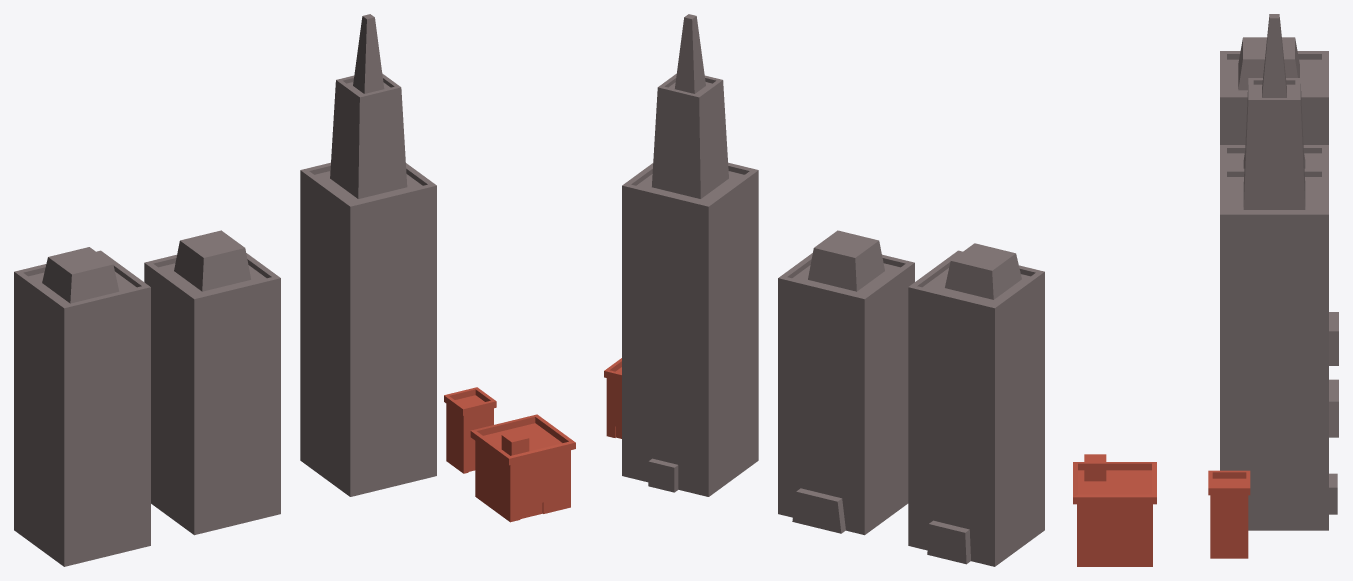
Rendered from BuildingPack001.fbx.
3 views of the same model, side by side, from view 1: azimuth 30°, elevation 25°; view 2: azimuth 150°, elevation 25°; view 3: azimuth 270°, elevation 25° (orthographic). The views are drawn at different scales.
Parts seen in each view (by area): view 1: SkyScraperTall, Skyscraper002, Skyscraper, TallBuildingWide, TallBuilding; view 2: SkyScraperTall, Skyscraper002, Skyscraper, TallBuilding; view 3: SkyScraperTall, TallBuildingWide, Skyscraper002, TallBuilding, Skyscraper.
Boxes of the visible parts, x1,y1,x2,y2 form: SkyScraperTall: (300, 14, 436, 496); Skyscraper002: (14, 247, 150, 566); Skyscraper: (144, 230, 280, 535); TallBuildingWide: (470, 414, 575, 522); TallBuilding: (444, 387, 496, 473); SkyScraperTall: (622, 14, 758, 496); Skyscraper002: (908, 243, 1044, 566); Skyscraper: (778, 230, 914, 535); TallBuilding: (604, 358, 621, 438); SkyScraperTall: (1220, 14, 1337, 530); TallBuildingWide: (1073, 454, 1156, 566); Skyscraper002: (1220, 37, 1338, 365); TallBuilding: (1208, 470, 1250, 558); Skyscraper: (1220, 145, 1338, 437).
Size of the model in its own units: 102 by 99.56 by 48.8.
